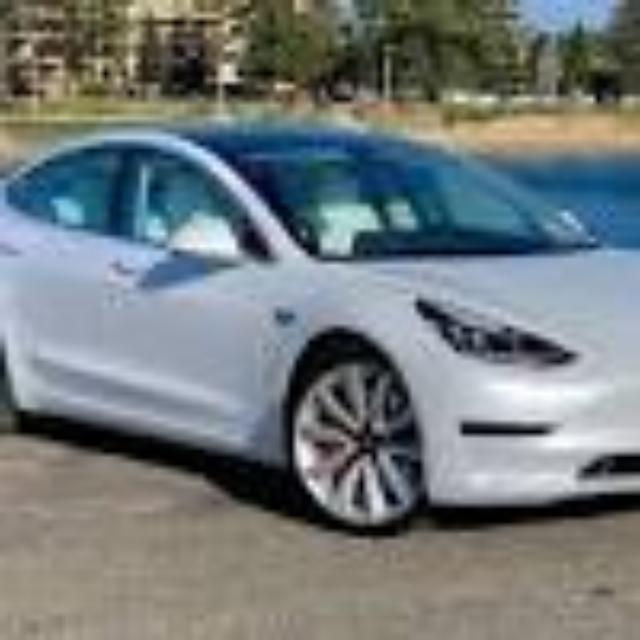tesla: (0, 123, 640, 537)
